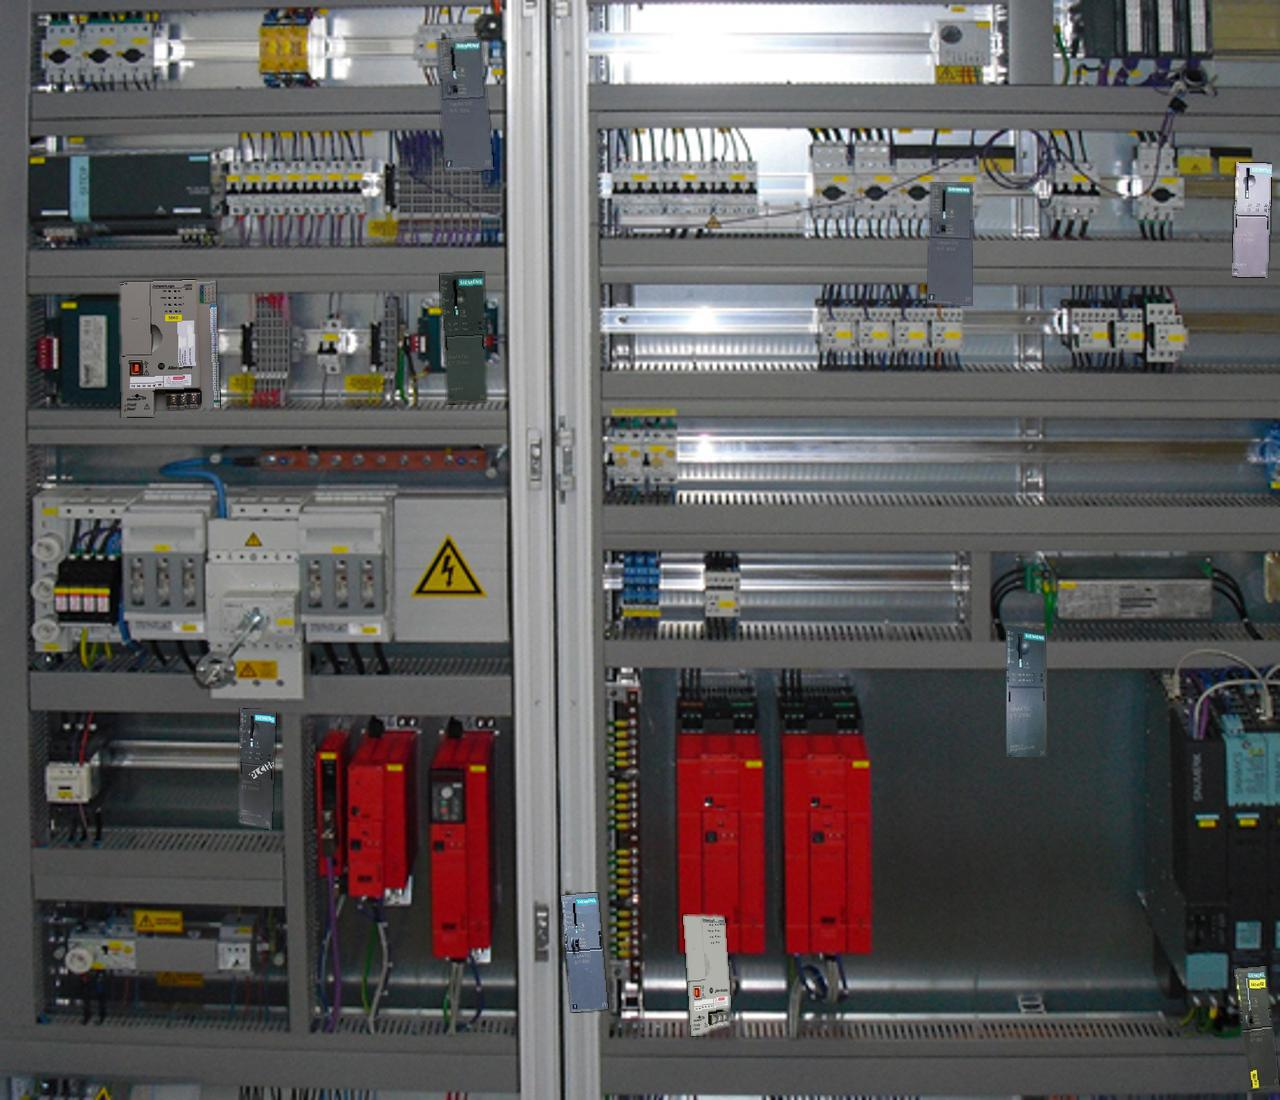AllenBradley: (119, 280, 219, 417), (684, 914, 730, 1035)
Siemens: (436, 37, 493, 171), (561, 893, 607, 1011), (927, 182, 972, 305), (1234, 966, 1278, 1089)
